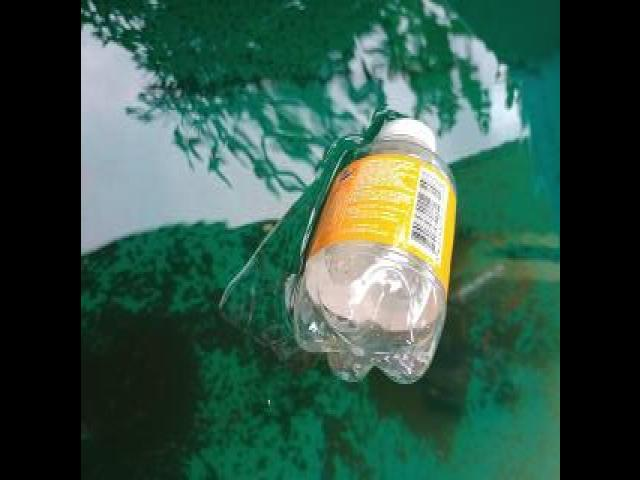Bottle: (288, 109, 464, 397)
